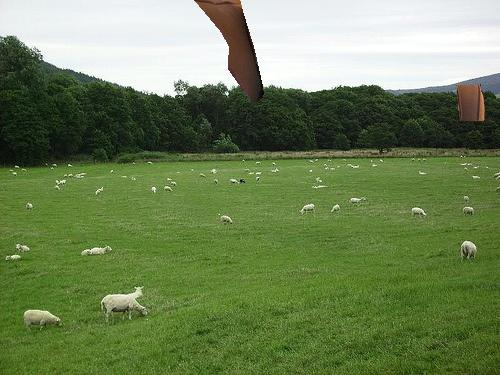tampered: (195, 1, 485, 121)
